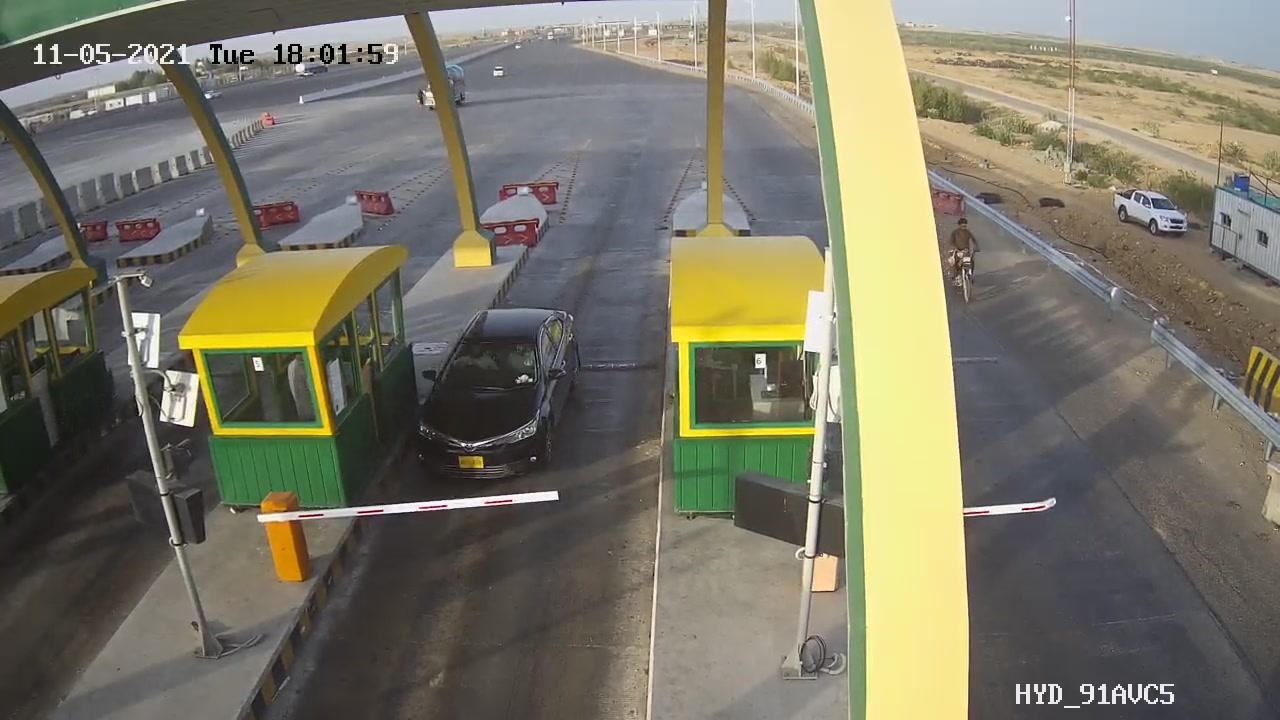F1: (403, 294, 594, 488)
